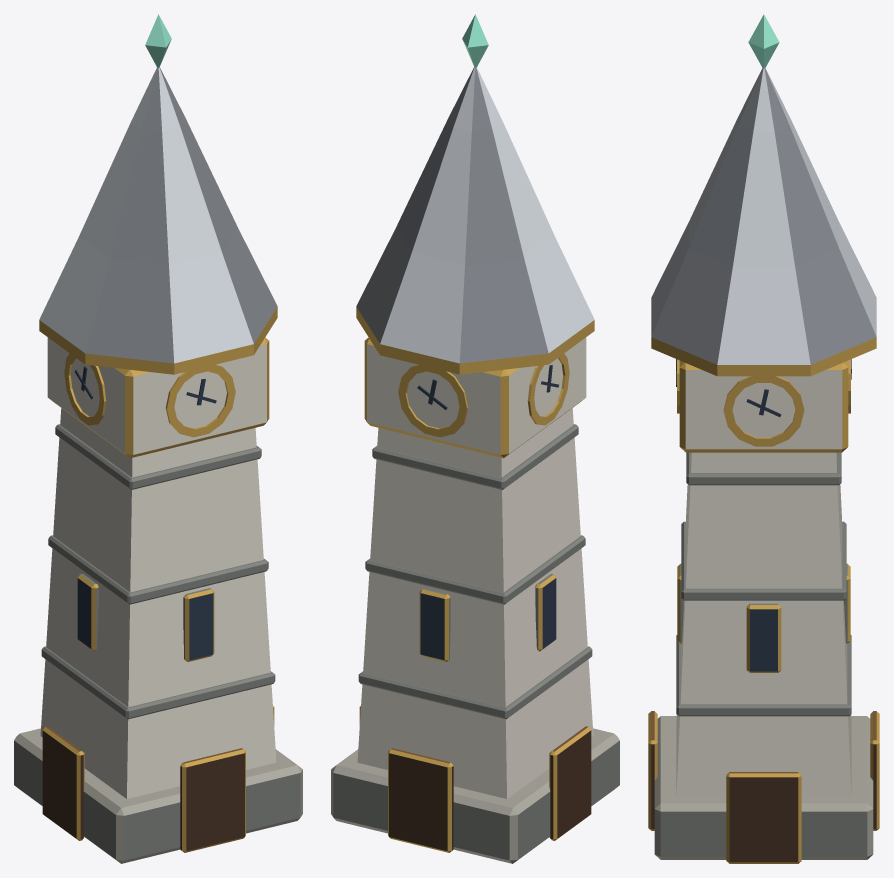
File: CompassTower.obj
The picture shows the model from 3 angles, left to right: view 1: azimuth 30°, elevation 25°; view 2: azimuth 150°, elevation 25°; view 3: azimuth 270°, elevation 25°; orthographic projection.
Size of the model in its own units: 7.4 by 28.3 by 7.4.
